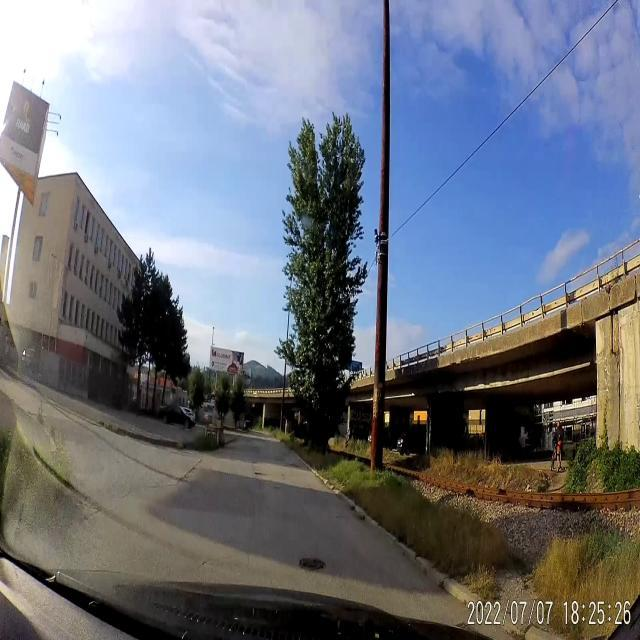Pothole: (297, 555, 327, 571), (252, 468, 268, 478)
